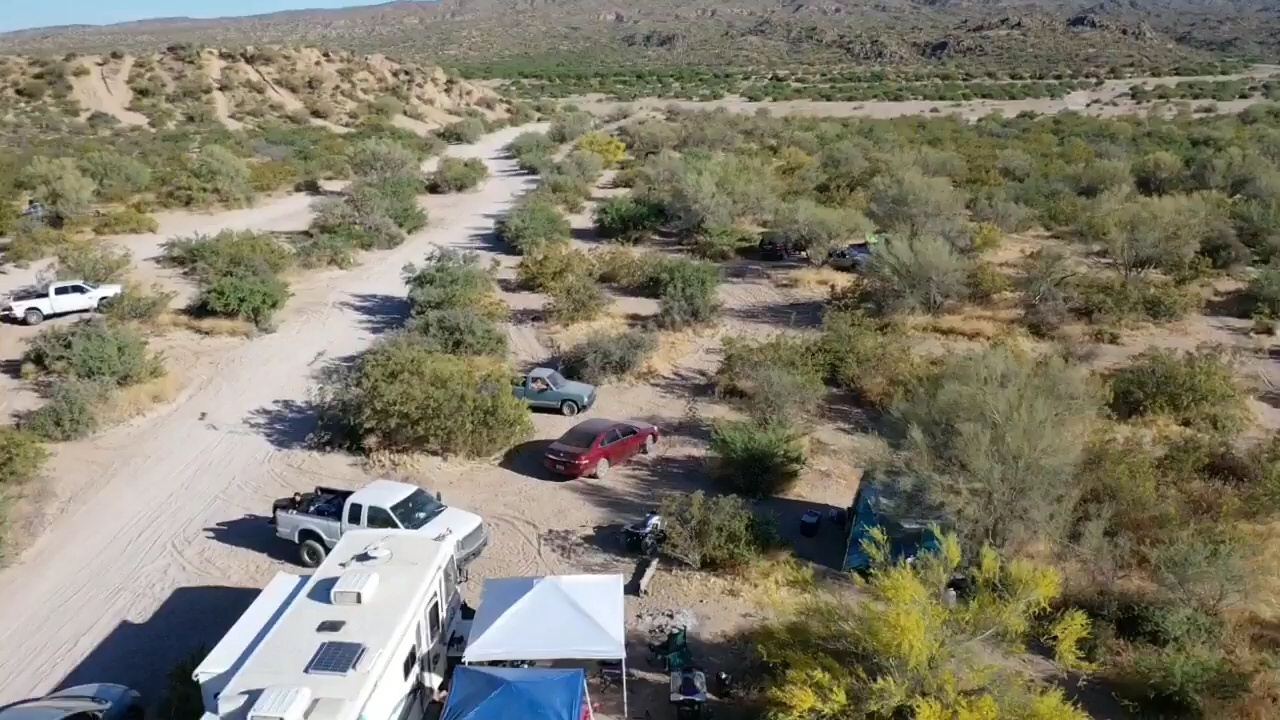araba: (542, 409, 663, 483), (498, 364, 599, 413)
kamyonet: (271, 468, 500, 567), (3, 279, 120, 332)
